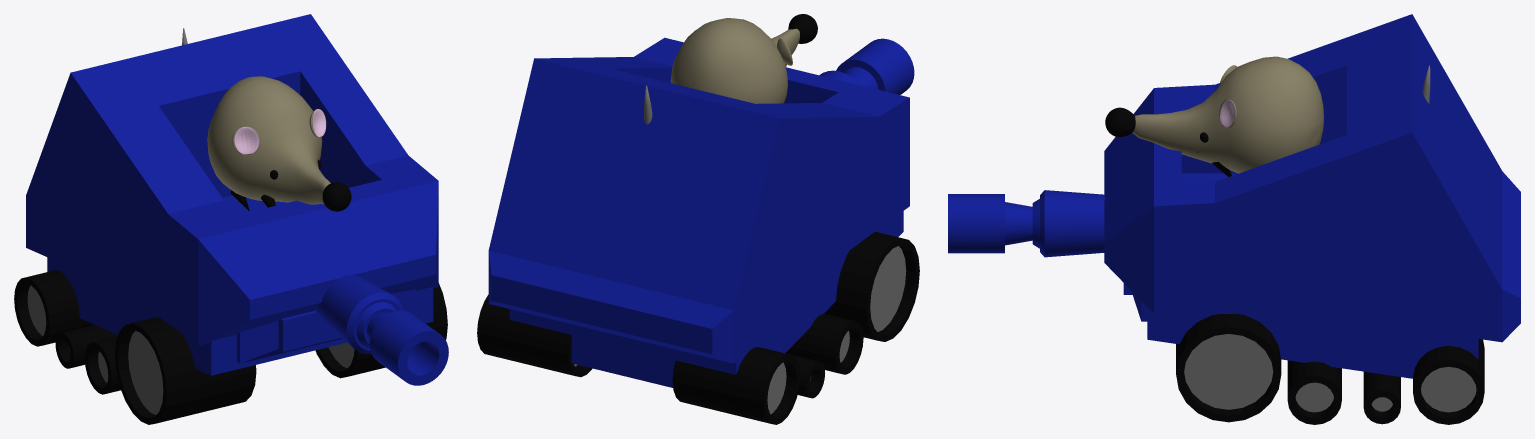
File: RattoTank.fbx
3 renders of one model, left to right at view 1: azimuth 30°, elevation 25°; view 2: azimuth 150°, elevation 25°; view 3: azimuth 270°, elevation 25°, orthographic. The views are drawn at different scales.
Visible parts, largest first — view 1: Tank.001, Cylinder.002, Sphere, Cylinder.001; view 2: Tank.001, Cylinder.002, Sphere, Cylinder.001; view 3: Tank.001, Cylinder.001, Sphere.
Boxes of the visible parts, x1,y1,x2,y2 form: Tank.001: (26, 14, 448, 385); Cylinder.002: (14, 270, 256, 424); Sphere: (182, 28, 351, 211); Cylinder.001: (315, 283, 447, 378); Tank.001: (488, 37, 914, 387); Cylinder.002: (672, 232, 919, 424); Sphere: (644, 14, 817, 124); Cylinder.001: (477, 294, 592, 377); Tank.001: (948, 14, 1520, 378); Cylinder.001: (1176, 314, 1484, 424); Sphere: (1105, 56, 1430, 176).
Size of the model in its own units: 78.39 by 78.02 by 137.
